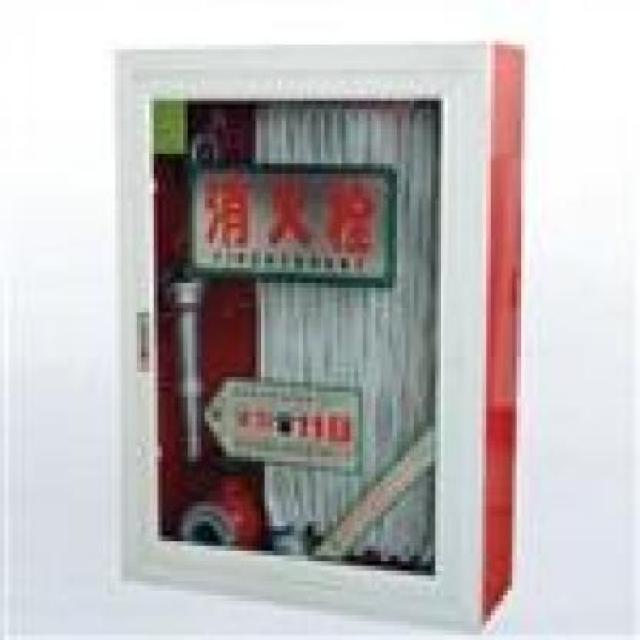firehydrant: (108, 37, 532, 640)
